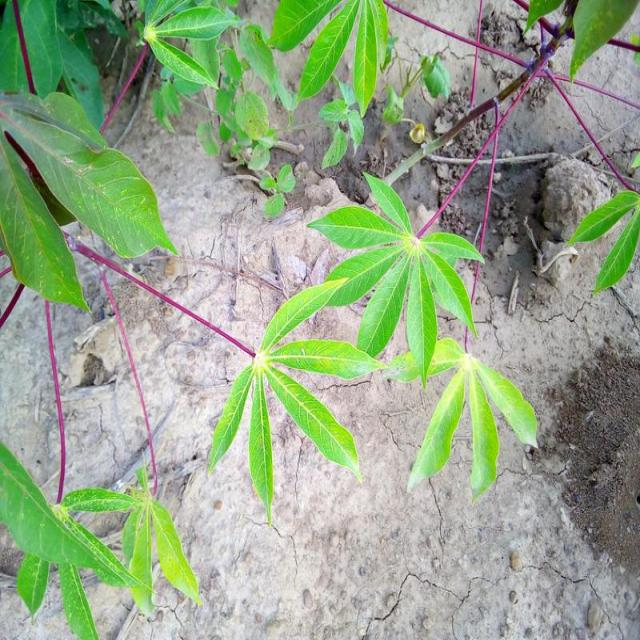cassava leaf: (306, 170, 486, 388), (406, 334, 538, 504)
